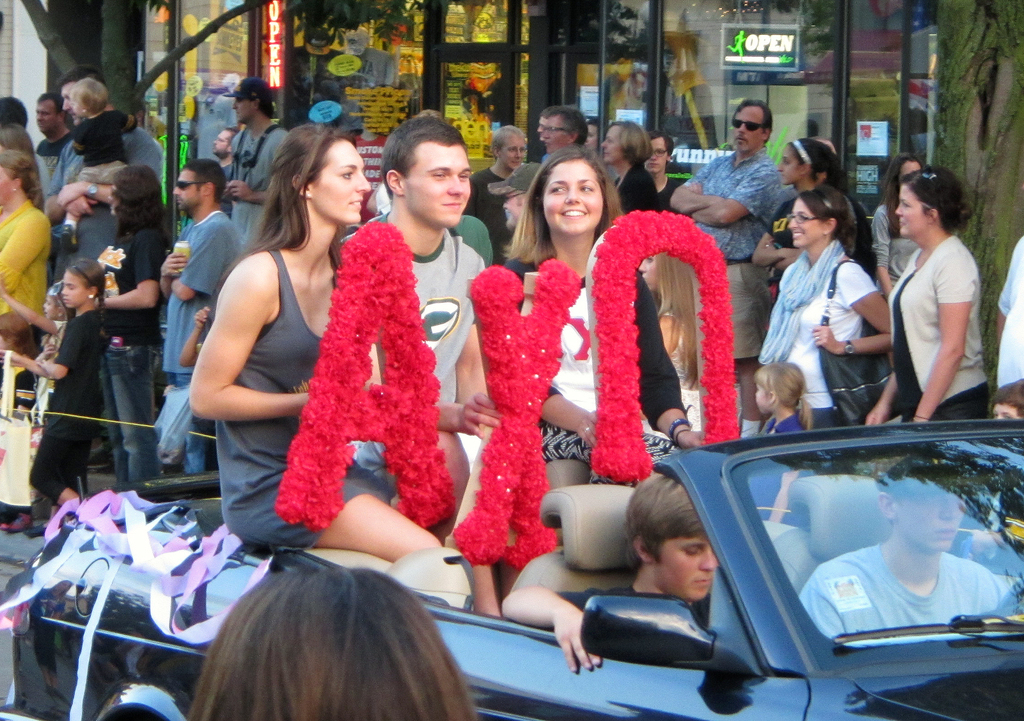cars: (0, 418, 1023, 719)
